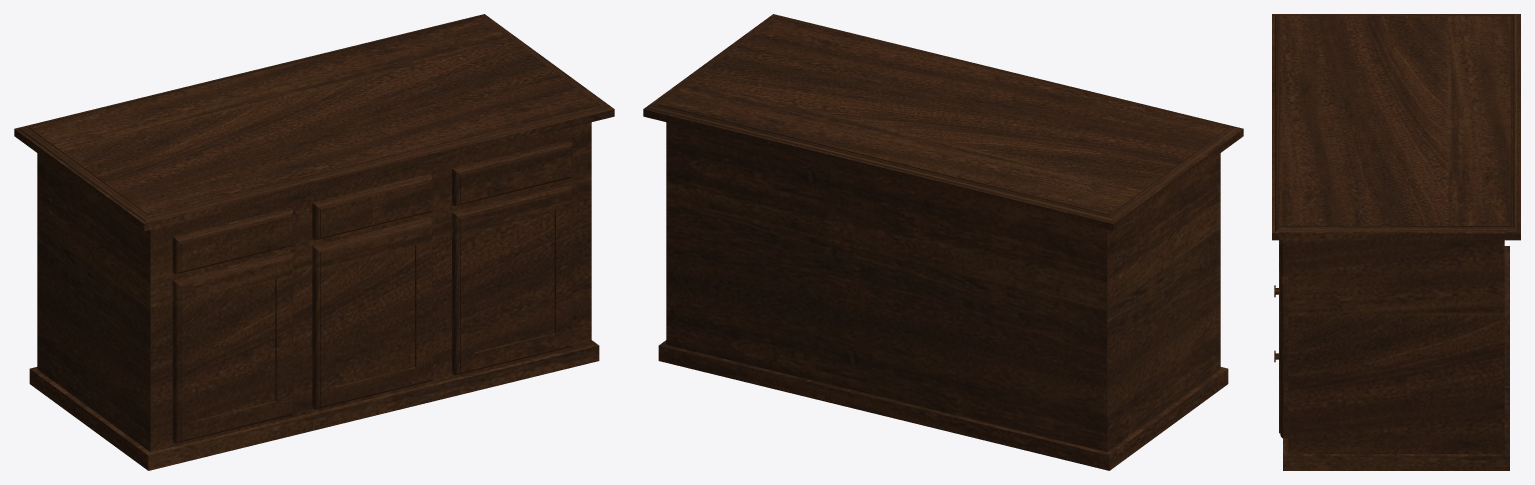
Rendered from ChestOfDrawers.obj.
3 renders of one model, left to right at view 1: azimuth 30°, elevation 25°; view 2: azimuth 150°, elevation 25°; view 3: azimuth 270°, elevation 25°, orthographic. The views are drawn at different scales.
Parts seen in each view (by area): view 1: Mesh5 Model; view 2: Mesh5 Model; view 3: Mesh5 Model.
Part boxes in pixels (x1=…): Mesh5 Model: x1=14, y1=14, x2=614, y2=470; Mesh5 Model: x1=643, y1=14, x2=1243, y2=470; Mesh5 Model: x1=1272, y1=14, x2=1520, y2=470.
Size of the model in its own units: 634 by 330 by 304.
2 materials, 2 textured.
